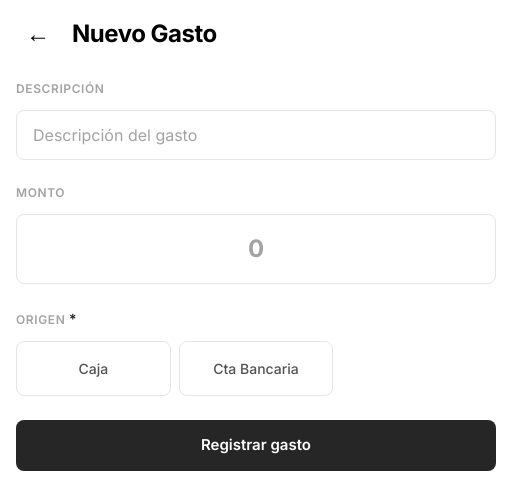
Test: MovementForm amount fields use GuaraniesInput (SW-O3 rollout) › gasto amount field live-formats typed digits with thousands separators
Expected: the heading "Nuevo Gasto" is shown, 72,16 -> 217,52
Type "50000" into the field with placeholder "0" at [256, 249], box 16,214 -> 496,284
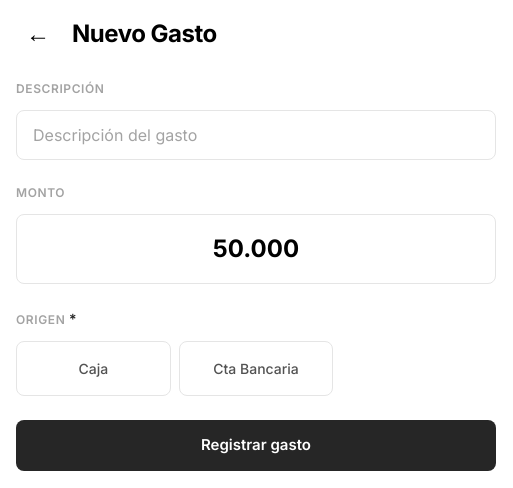
Result: the field with placeholder "0" holds "50.000" at 16,214 -> 496,284
